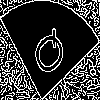Q: (25, 24, 70, 86)
